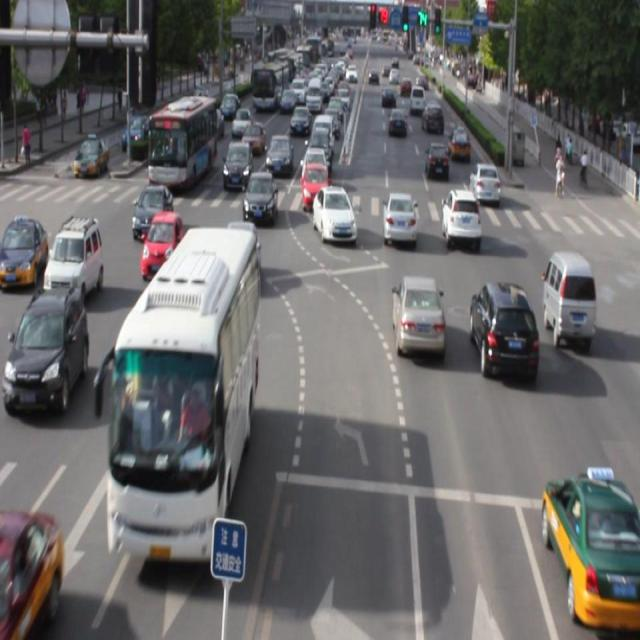car: (544, 477, 640, 618), (1, 289, 88, 415), (1, 508, 61, 640), (469, 280, 536, 381), (392, 274, 444, 360), (142, 212, 184, 281), (310, 188, 357, 246), (134, 187, 174, 241), (440, 191, 478, 244), (382, 192, 417, 245), (243, 173, 277, 224)
truck: (544, 251, 594, 344)
van: (105, 229, 258, 558)
